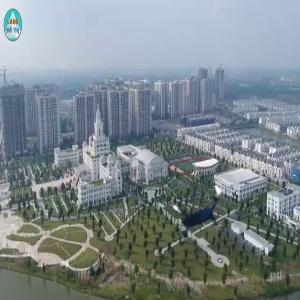drone: (158, 176, 237, 255)
